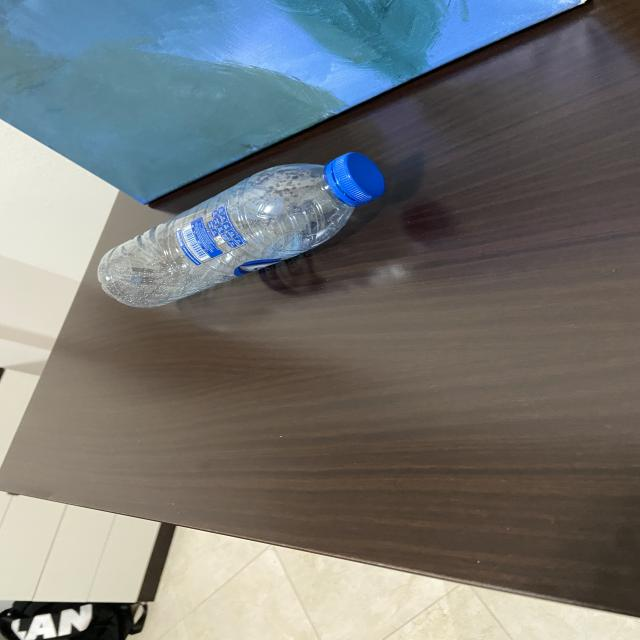bottle: (85, 148, 398, 311)
